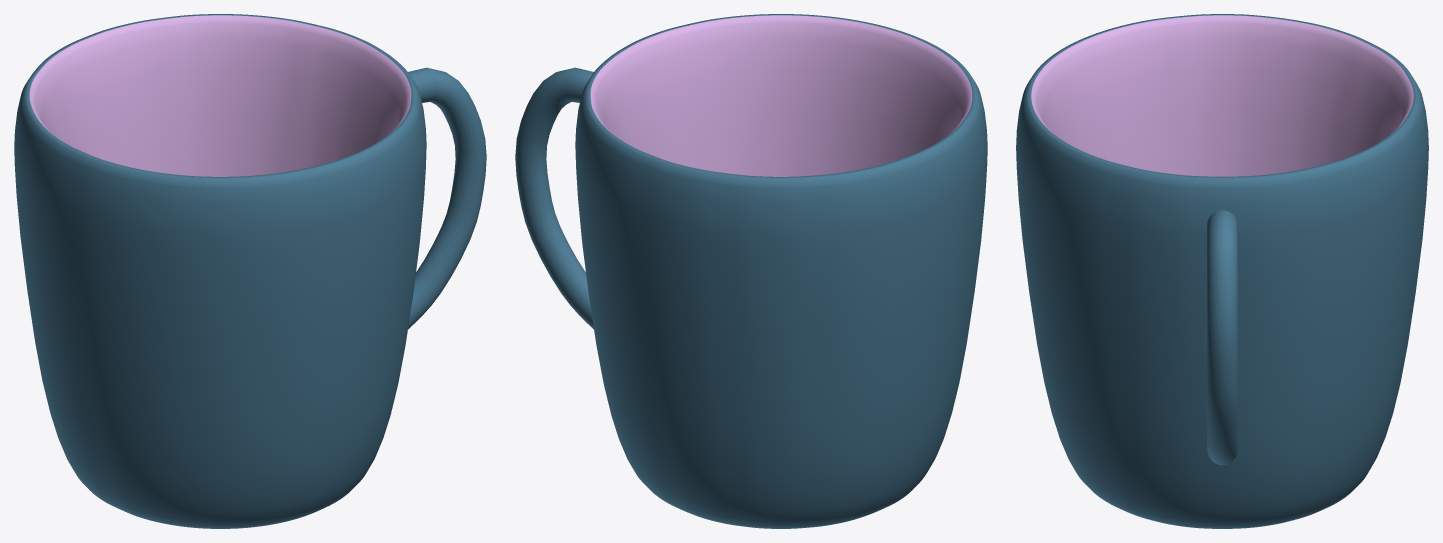
File: coffee mug done.fbx
3 views of the same model, side by side, from view 1: azimuth 30°, elevation 25°; view 2: azimuth 150°, elevation 25°; view 3: azimuth 270°, elevation 25° (orthographic).
Parts seen in each view (by area): view 1: polySurface7; view 2: polySurface7; view 3: polySurface7.
Part boxes in pixels (x1,y1,x2,y2): polySurface7: (14,14,486,528); polySurface7: (515,14,987,528); polySurface7: (1016,14,1428,528).
Bounding box in the file's own units: 0.6794 × 0.5586 × 0.5486.
